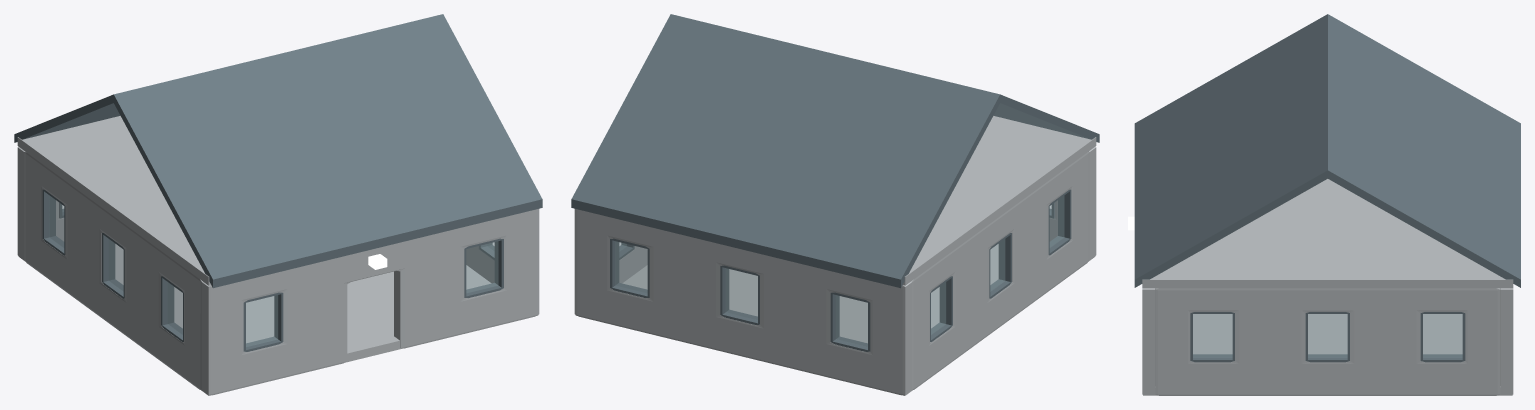
File: house_1_lod0.glb
The picture shows the model from 3 angles, left to right: view 1: azimuth 30°, elevation 25°; view 2: azimuth 150°, elevation 25°; view 3: azimuth 270°, elevation 25°; orthographic projection. The views are drawn at different scales.
Parts seen in each view (by area): view 1: Roof shell baked, Wall_0 baked, Wall_3 baked, Ceiling baked, Floor baked, Glazing.001 baked, Glazing baked, Wall_1 baked, Wall_2 baked, Glazing.009 baked, Glazing.010 baked, Glazing.008 baked (+4 smaller); view 2: Roof shell baked, Wall_1 baked, Wall_3 baked, Ceiling baked, Floor baked, Glazing.003 baked, Glazing.002 baked, Glazing.004 baked, Wall_0 baked, Wall_2 baked, Glazing.008 baked, Glazing.009 baked (+6 smaller); view 3: Roof shell baked, Wall_2 baked, Ceiling baked, Floor baked, Glazing.005 baked, Glazing.006 baked, Glazing.007 baked, Wall_1 baked, Wall_0 baked, Window sill.010 baked, Window sill.012 baked, Window sill.014 baked.
Boxes of the visible parts, x1,y1,x2,y2 form: Roof shell baked: (14,14,542,288); Wall_0 baked: (202,209,539,395); Wall_3 baked: (24,152,202,389); Ceiling baked: (17,116,210,285); Floor baked: (18,244,538,395); Glazing.001 baked: (466,241,498,292); Glazing baked: (246,295,277,346); Wall_1 baked: (17,146,64,259); Wall_2 baked: (466,246,494,283); Glazing.009 baked: (108,239,123,290); Glazing.010 baked: (168,282,182,334); Glazing.008 baked: (49,196,63,247); Roof shell baked: (571,14,1099,288); Wall_1 baked: (574,209,911,395); Wall_3 baked: (911,152,1089,389); Ceiling baked: (903,116,1096,285); Floor baked: (575,244,1095,395); Glazing.003 baked: (725,268,757,319); Glazing.002 baked: (615,241,647,292); Glazing.004 baked: (836,295,867,346); Wall_0 baked: (1049,146,1096,259); Wall_2 baked: (619,246,647,283); Glazing.008 baked: (931,282,945,334); Glazing.009 baked: (990,239,1004,290); Roof shell baked: (1134,14,1520,287); Wall_2 baked: (1155,288,1500,395); Ceiling baked: (1142,179,1513,288); Floor baked: (1143,314,1512,395); Glazing.005 baked: (1193,314,1232,357); Glazing.006 baked: (1308,314,1347,357); Glazing.007 baked: (1423,314,1462,357); Wall_1 baked: (1500,288,1513,394); Wall_0 baked: (1142,288,1155,394); Window sill.010 baked: (1193,354,1232,362); Window sill.012 baked: (1308,354,1347,362); Window sill.014 baked: (1423,354,1462,362).
Size of the model in its own units: 10 by 6.7 by 10.58.
